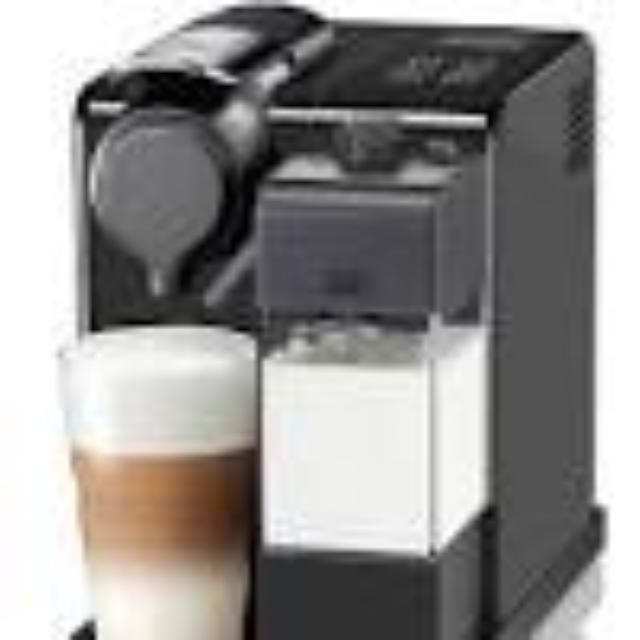Coffee-Machine: (57, 0, 603, 640)
